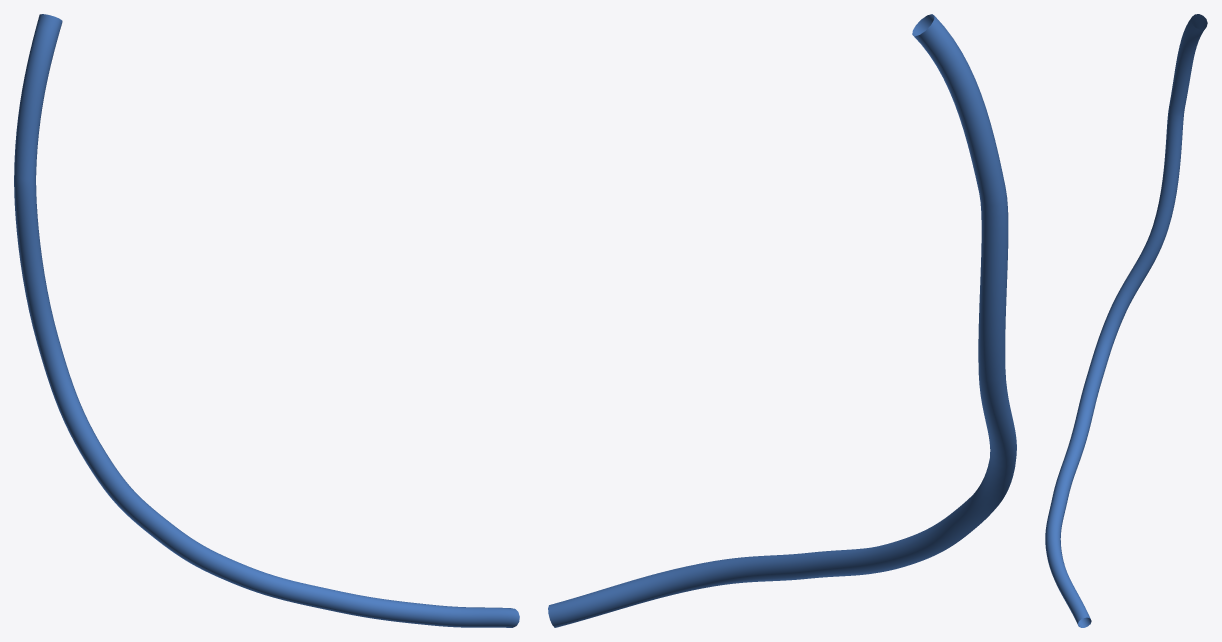
3 views of the same model, side by side, from view 1: azimuth 30°, elevation 25°; view 2: azimuth 150°, elevation 25°; view 3: azimuth 270°, elevation 25° (orthographic). The views are drawn at different scales.
Parts seen in each view (by area): view 1: 右侧足背静脉弓; view 2: 右侧足背静脉弓; view 3: 右侧足背静脉弓.
Part boxes in pixels (x1,y1,x2,y2): 右侧足背静脉弓: (14,14,519,627); 右侧足背静脉弓: (548,14,1016,627); 右侧足背静脉弓: (1045,14,1207,627).
Size of the model in its own units: 0.0671 by 0.0953 by 0.0295.
